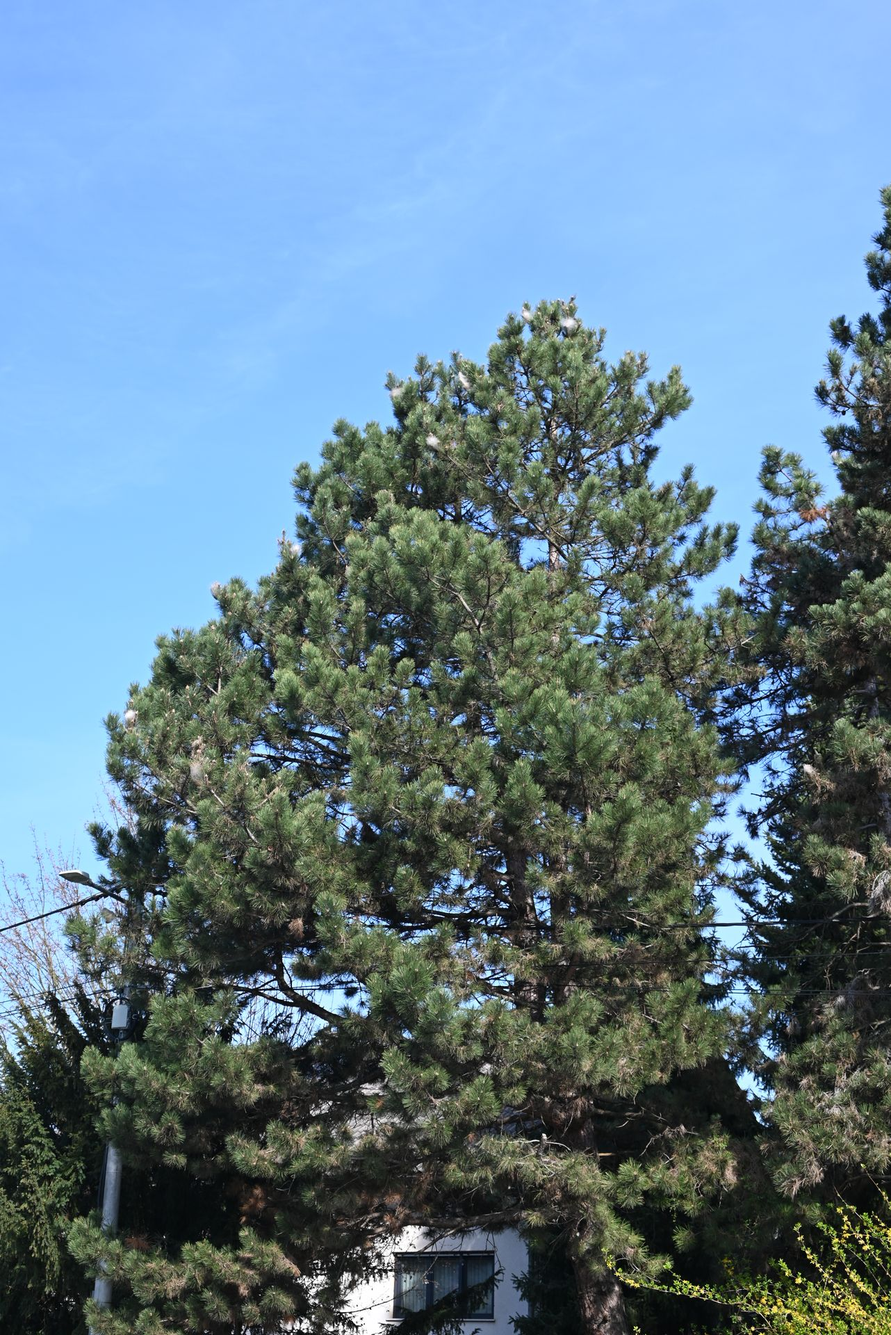thaumatopoea pityocampa jajno gnijezdo: (180, 756, 213, 785), (553, 309, 582, 336), (453, 365, 474, 394), (421, 429, 445, 453), (203, 580, 225, 604), (798, 761, 822, 781), (388, 382, 403, 404), (122, 707, 136, 725), (519, 306, 533, 323)
